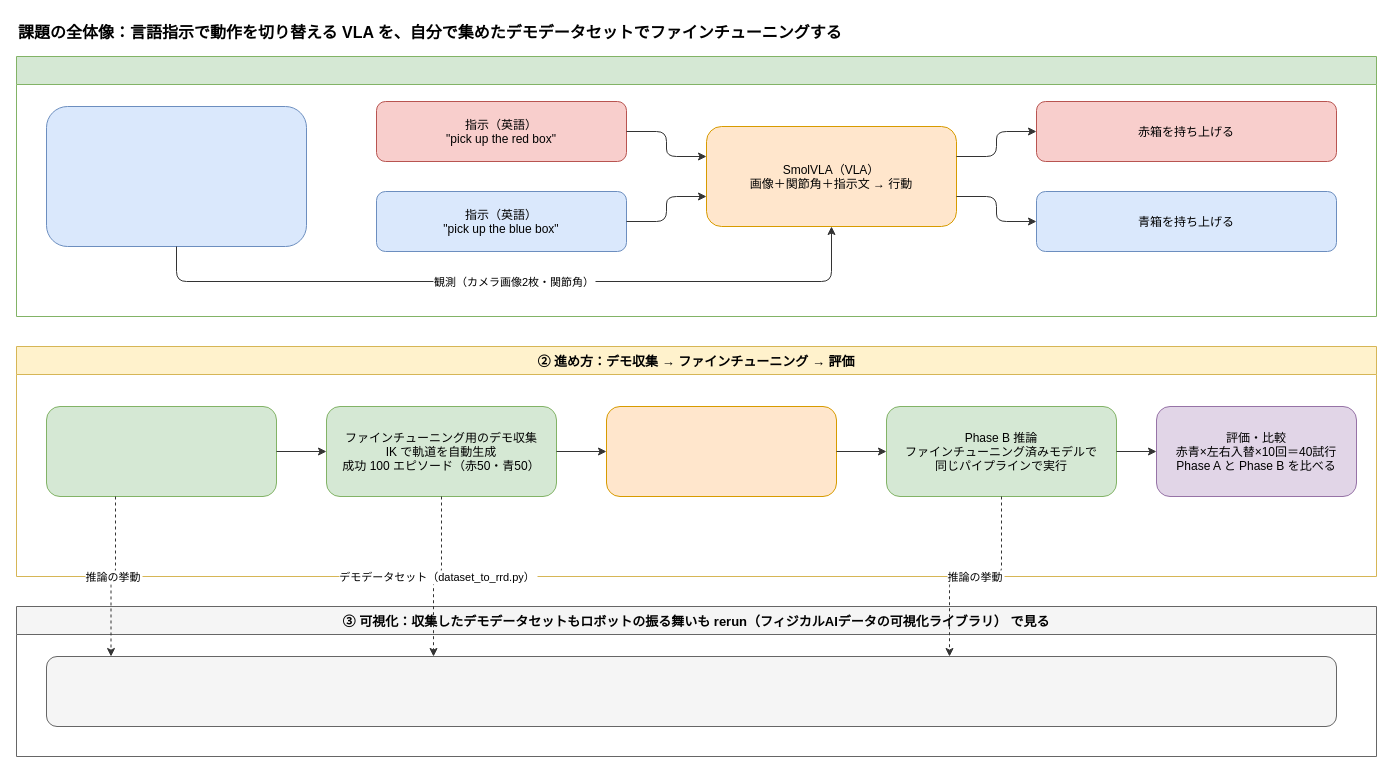
This 1393x773 diagram has some shape labels left out. The shapes that lost their labels are listed below. From the top down, each one's box as (x1, y1, x2, y2) in pixels, then its label:
(46, 106, 306, 246): Gazebo 上の SO-101 アーム 机の上に赤箱・青箱 （左右の配置はランダムに入替）
(16, 56, 1376, 316): ① ゴール：VLAを使うと、言語指示だけで挙動（掴む箱）を切り替えられるのが特徴的なので、それを確かめてみる
(46, 406, 276, 496): Phase A（Zero-Shot） smolvla_base をそのまま推論 （VLAであっても基本は下流タスクでの 学習が必要であることを体験）
(606, 406, 836, 496): ファインチューニング（GPU） 収集したデモデータセットで smolvla_base を 追加学習（lerobot-train）
(46, 656, 1336, 726): rerun（.rrd ファイル／ライブ表示） カメラ画像・関節角・指令・予測した行動チャンク・箱の位置と成功判定・推論時間を、同じ時間軸で並べて確認
